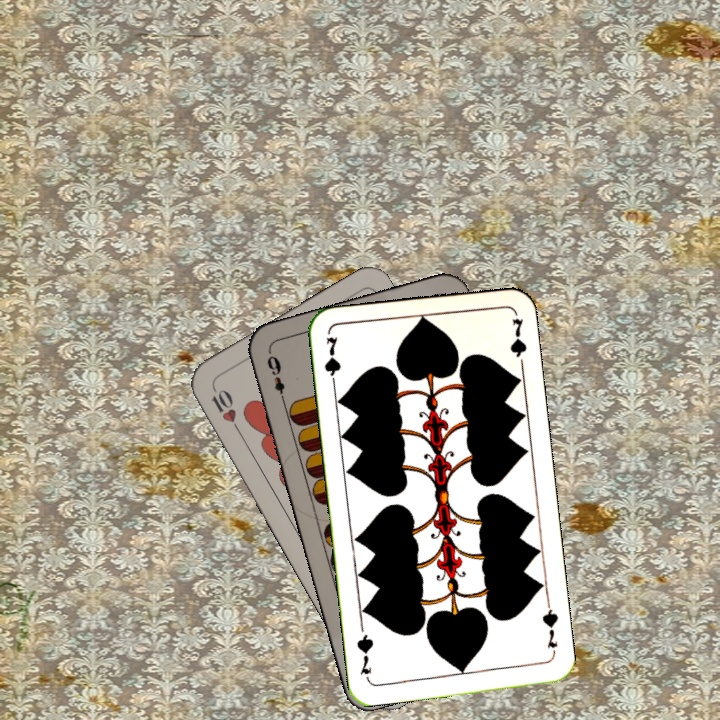E9: (262, 348, 288, 407)
G7: (320, 332, 344, 391), (538, 600, 561, 659)
H10: (207, 382, 243, 435)
